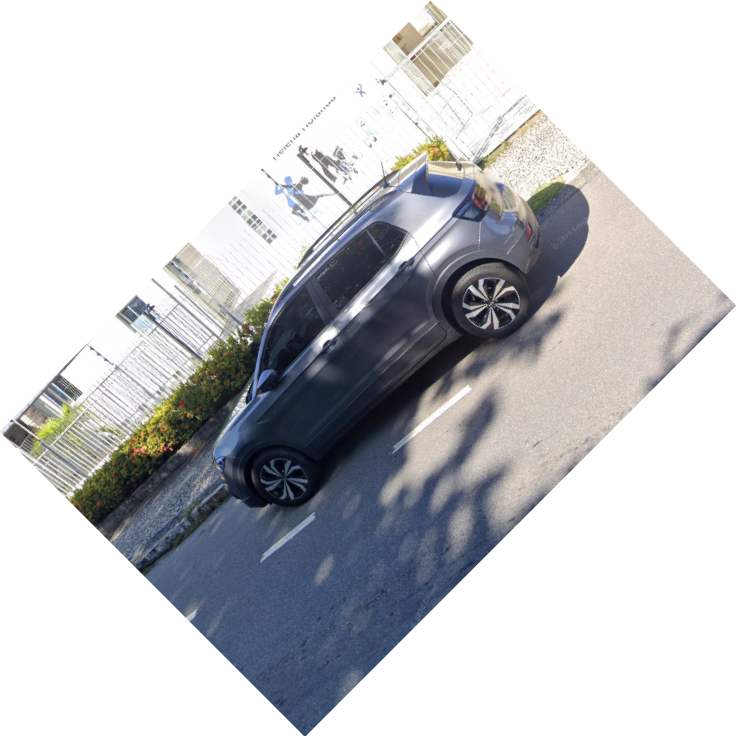car: (210, 150, 543, 510)
